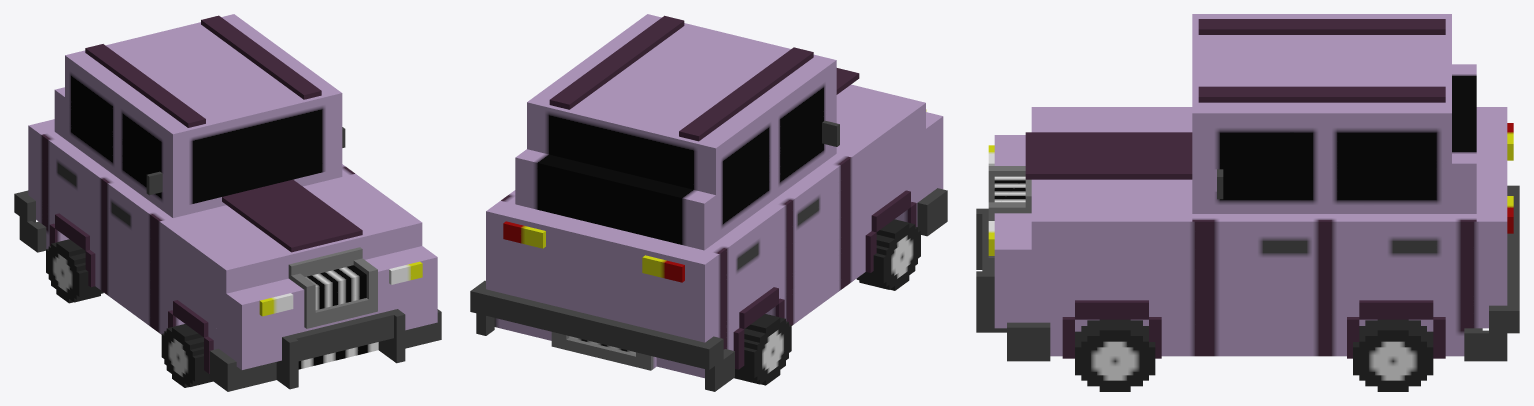
The model's file is car_detail_5.fbx.
The picture shows the model from 3 angles, left to right: view 1: azimuth 30°, elevation 25°; view 2: azimuth 150°, elevation 25°; view 3: azimuth 270°, elevation 25°; orthographic projection. The views are drawn at different scales.
Visible parts, largest first — view 1: body, back_left_wheel, back_right_wheel; view 2: body, back_right_wheel, back_left_wheel; view 3: body, front_left_wheel, front_right_wheel.
Boxes of the visible parts, x1,y1,x2,y2 form: body: (14,14,441,391); back_left_wheel: (46,239,103,303); back_right_wheel: (161,324,212,387); body: (470,14,947,391); back_right_wheel: (856,219,920,290); back_left_wheel: (734,314,791,385); body: (976,14,1519,361); front_left_wheel: (1353,319,1433,391); front_right_wheel: (1075,319,1155,391).
Bounding box in the file's own units: 50 × 48 × 88.
Materials: 1 (1 with a texture image).
